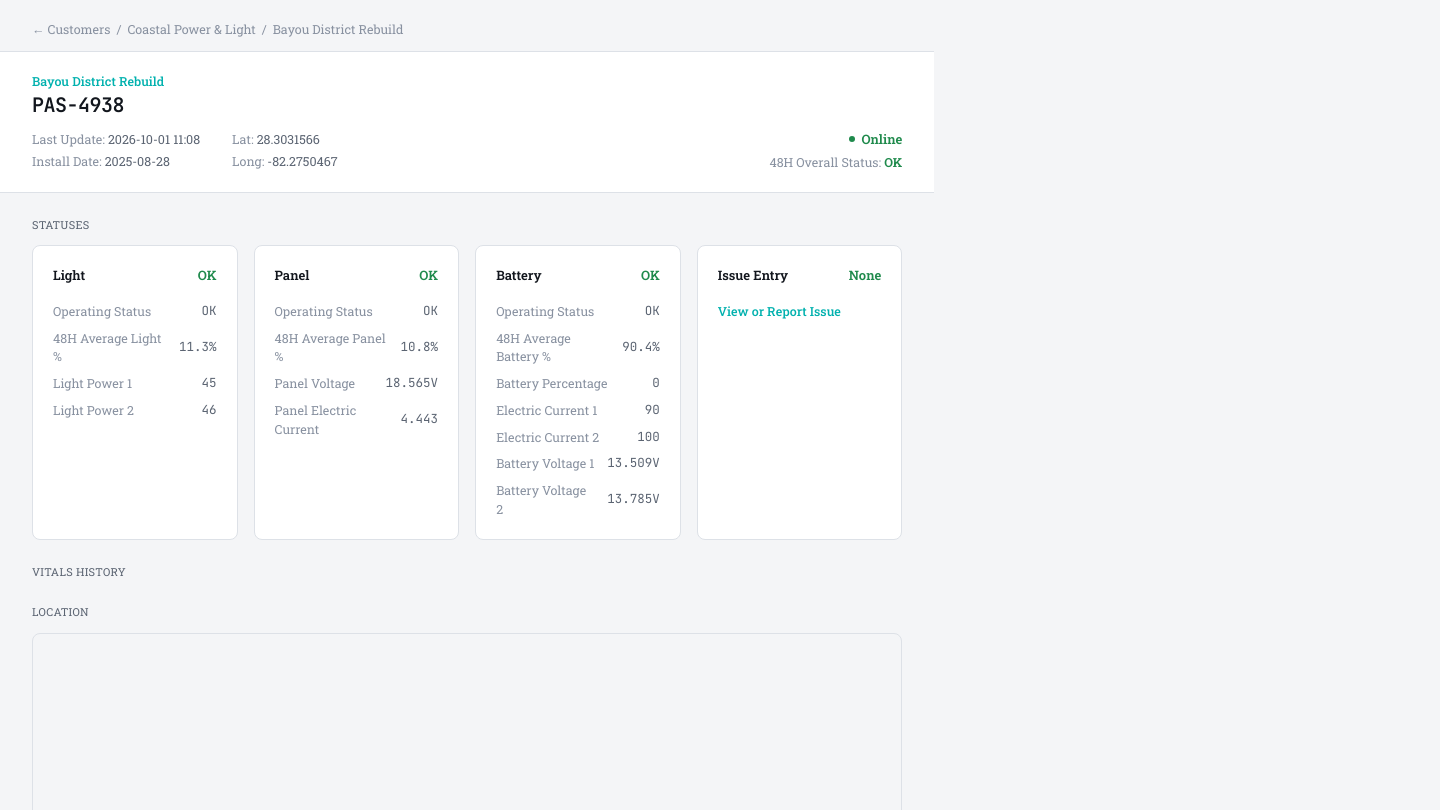
it: PoleDetailPage › shows 'View or Report Issue' under Issue Entry, and lists the issues in the modal, when the pole has poleIssues
Click the button "View or Report Issue".
click(779, 311)  # box [718,302,841,321]
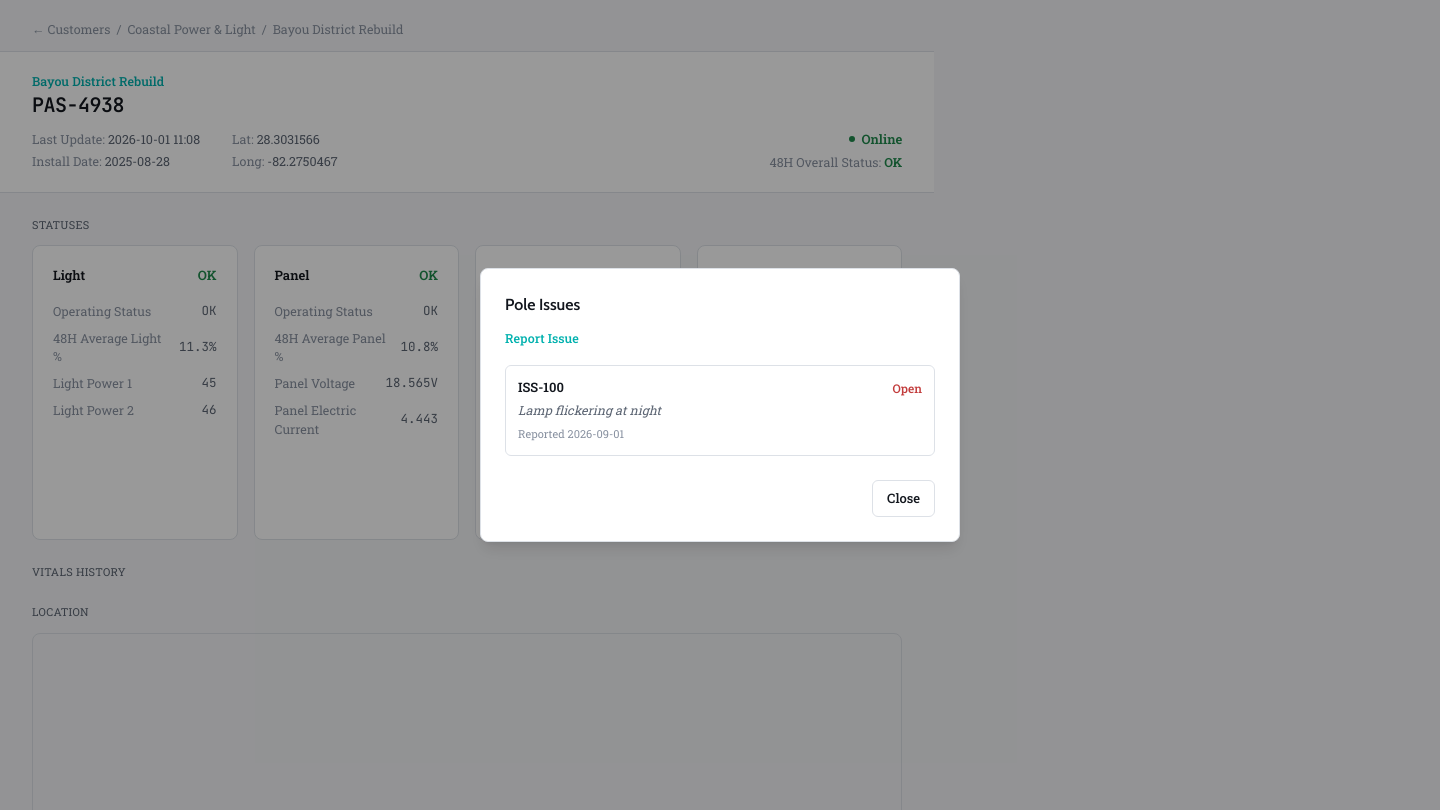
Check: the text "ISS-100" is shown, box [518,378,564,397]
Check: the text "Lamp flickering at night" is shown, box [518,402,661,418]
